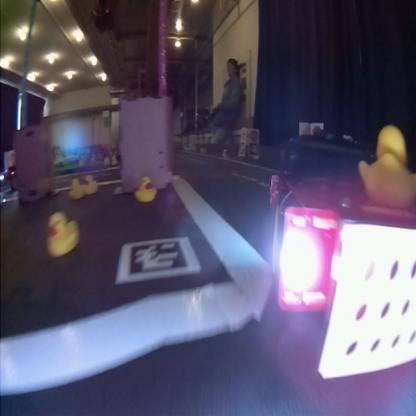Duckie: (360, 126, 414, 204), (49, 211, 80, 254), (136, 174, 157, 202), (71, 178, 86, 200)
Duckiebot: (271, 171, 415, 379)
QR code: (118, 236, 199, 281)
